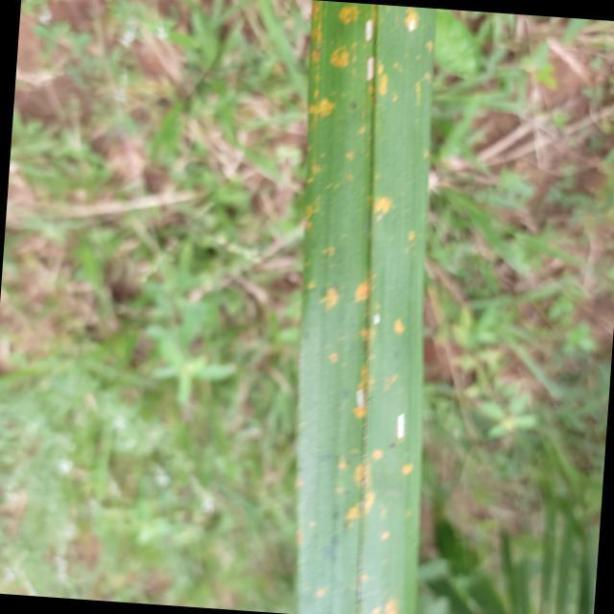Kalium: (295, 0, 434, 614)
